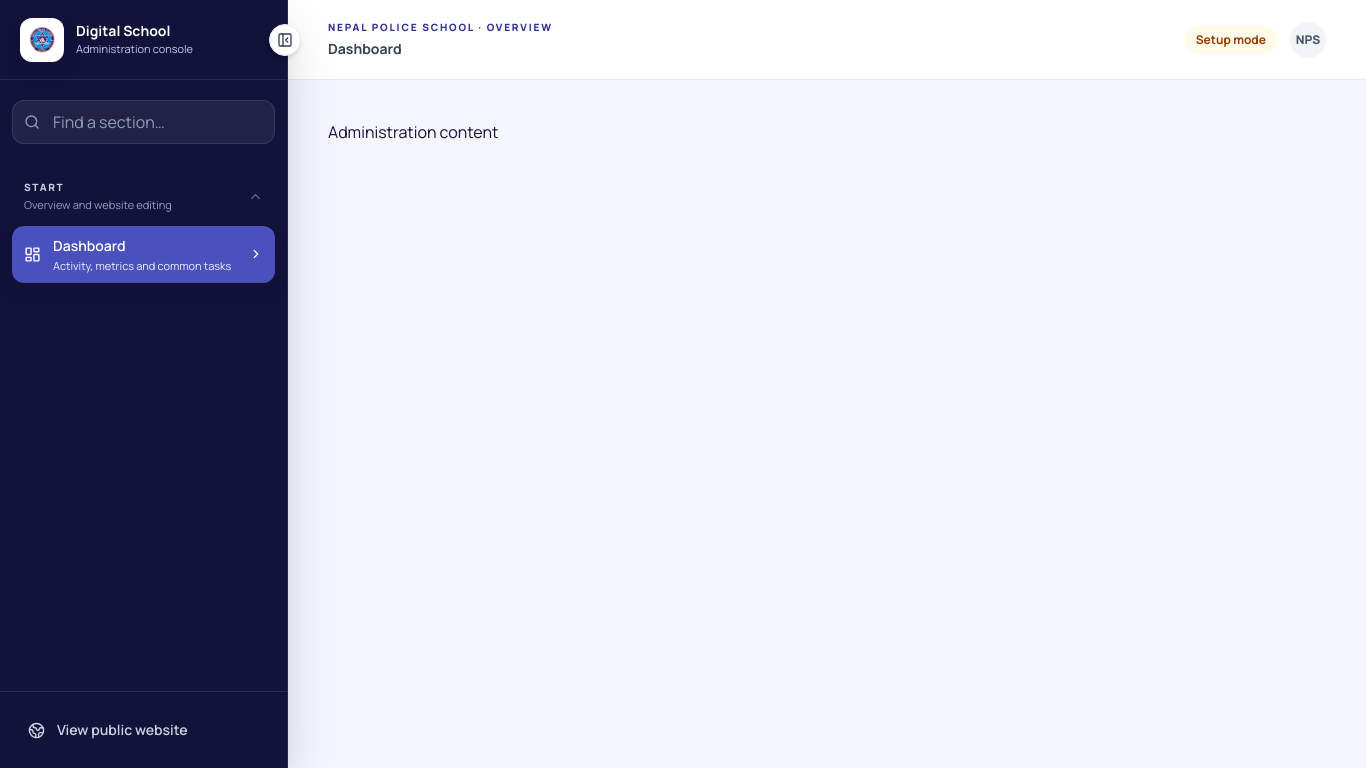
Test: administration sidebar › uses the school emblem and supports an accessible compact desktop state
This screenshot has width=1366, height=768.
Click the button named "Collapse sidebar" at [285, 40], box [269,24,301,56]
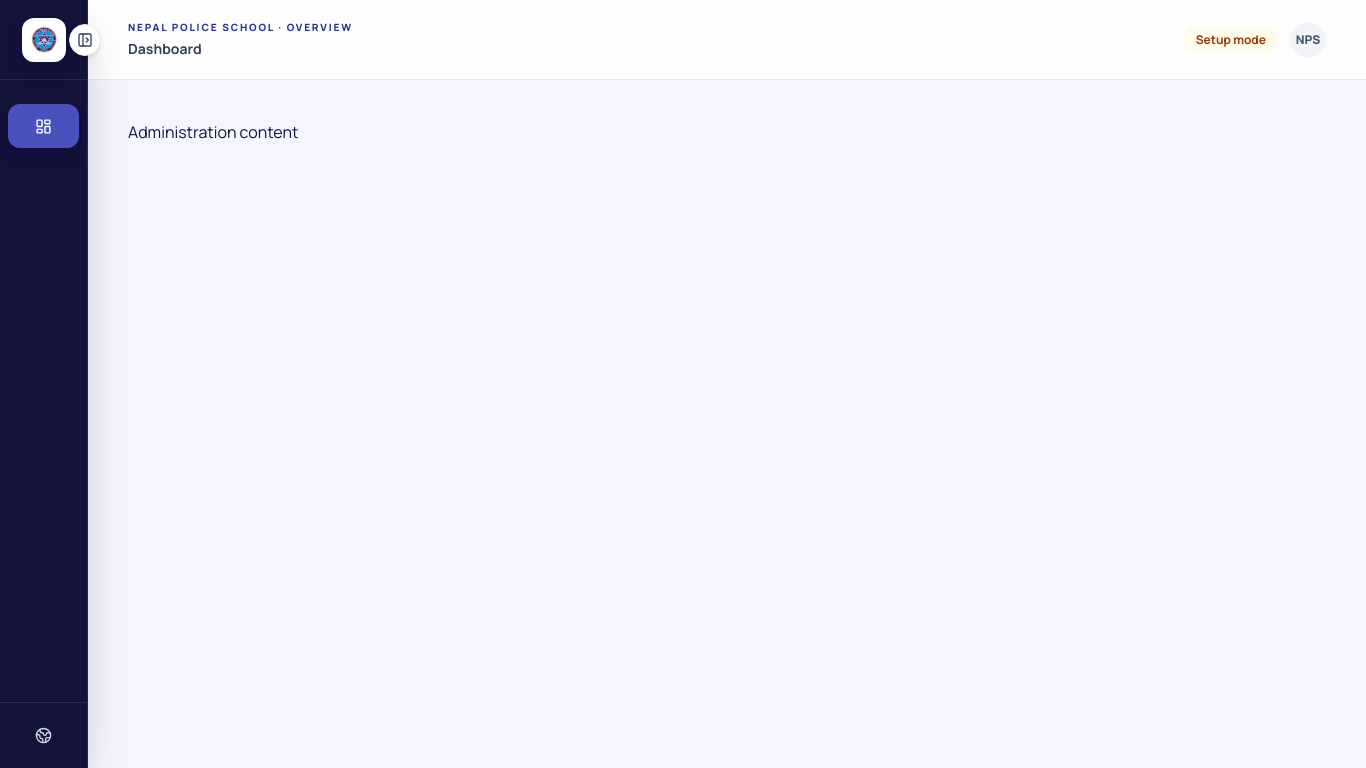
Expected: the text "Administration content" is shown, [128,121,298,143]
Result: the button named "Expand sidebar" is collapsed at [69,24,101,56]
